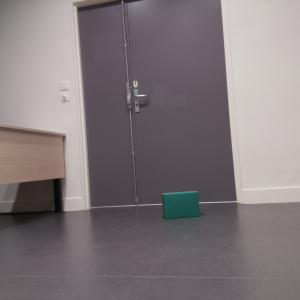small: (162, 188, 204, 220)
